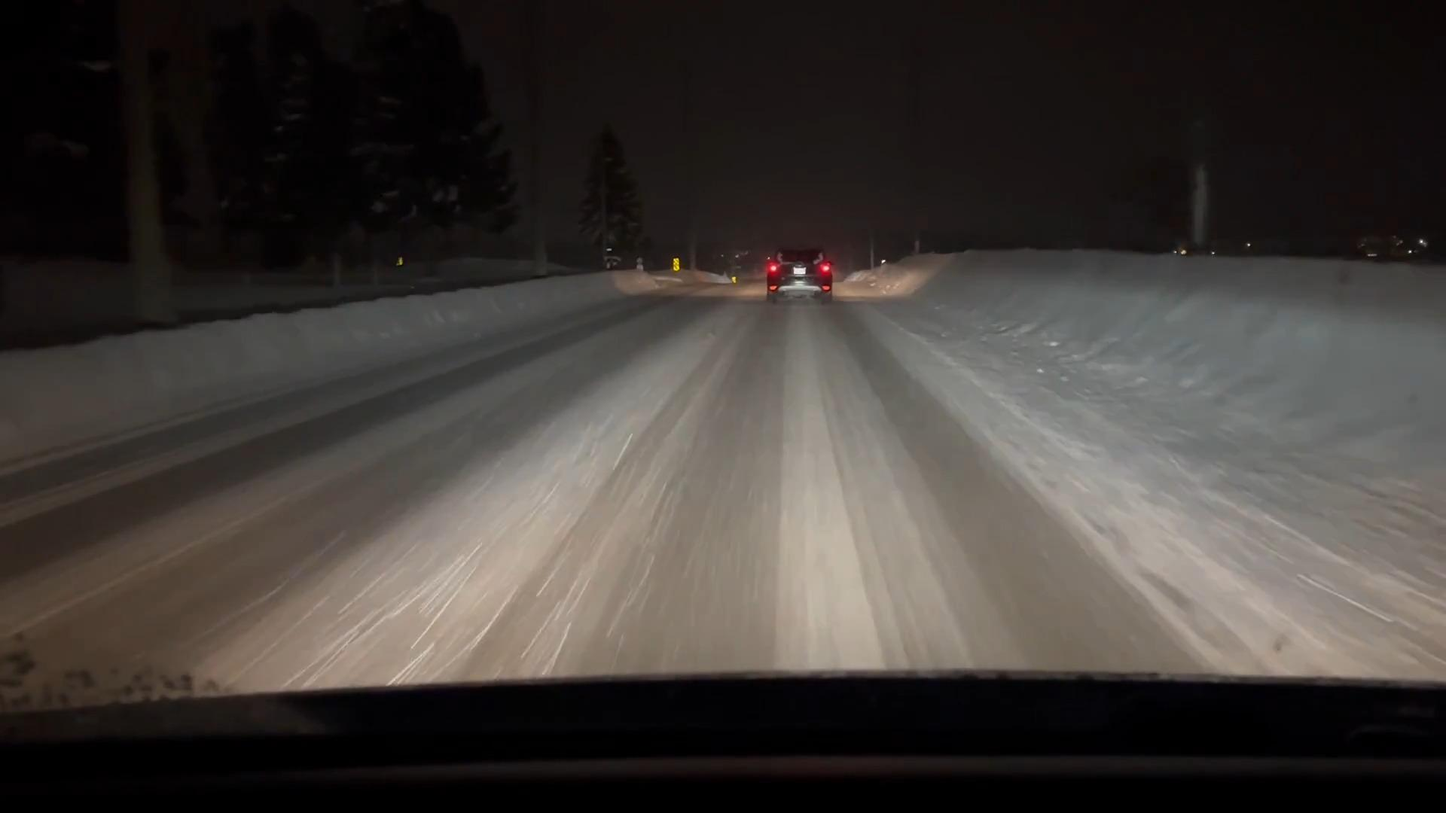Snow: (0, 275, 1445, 702)
